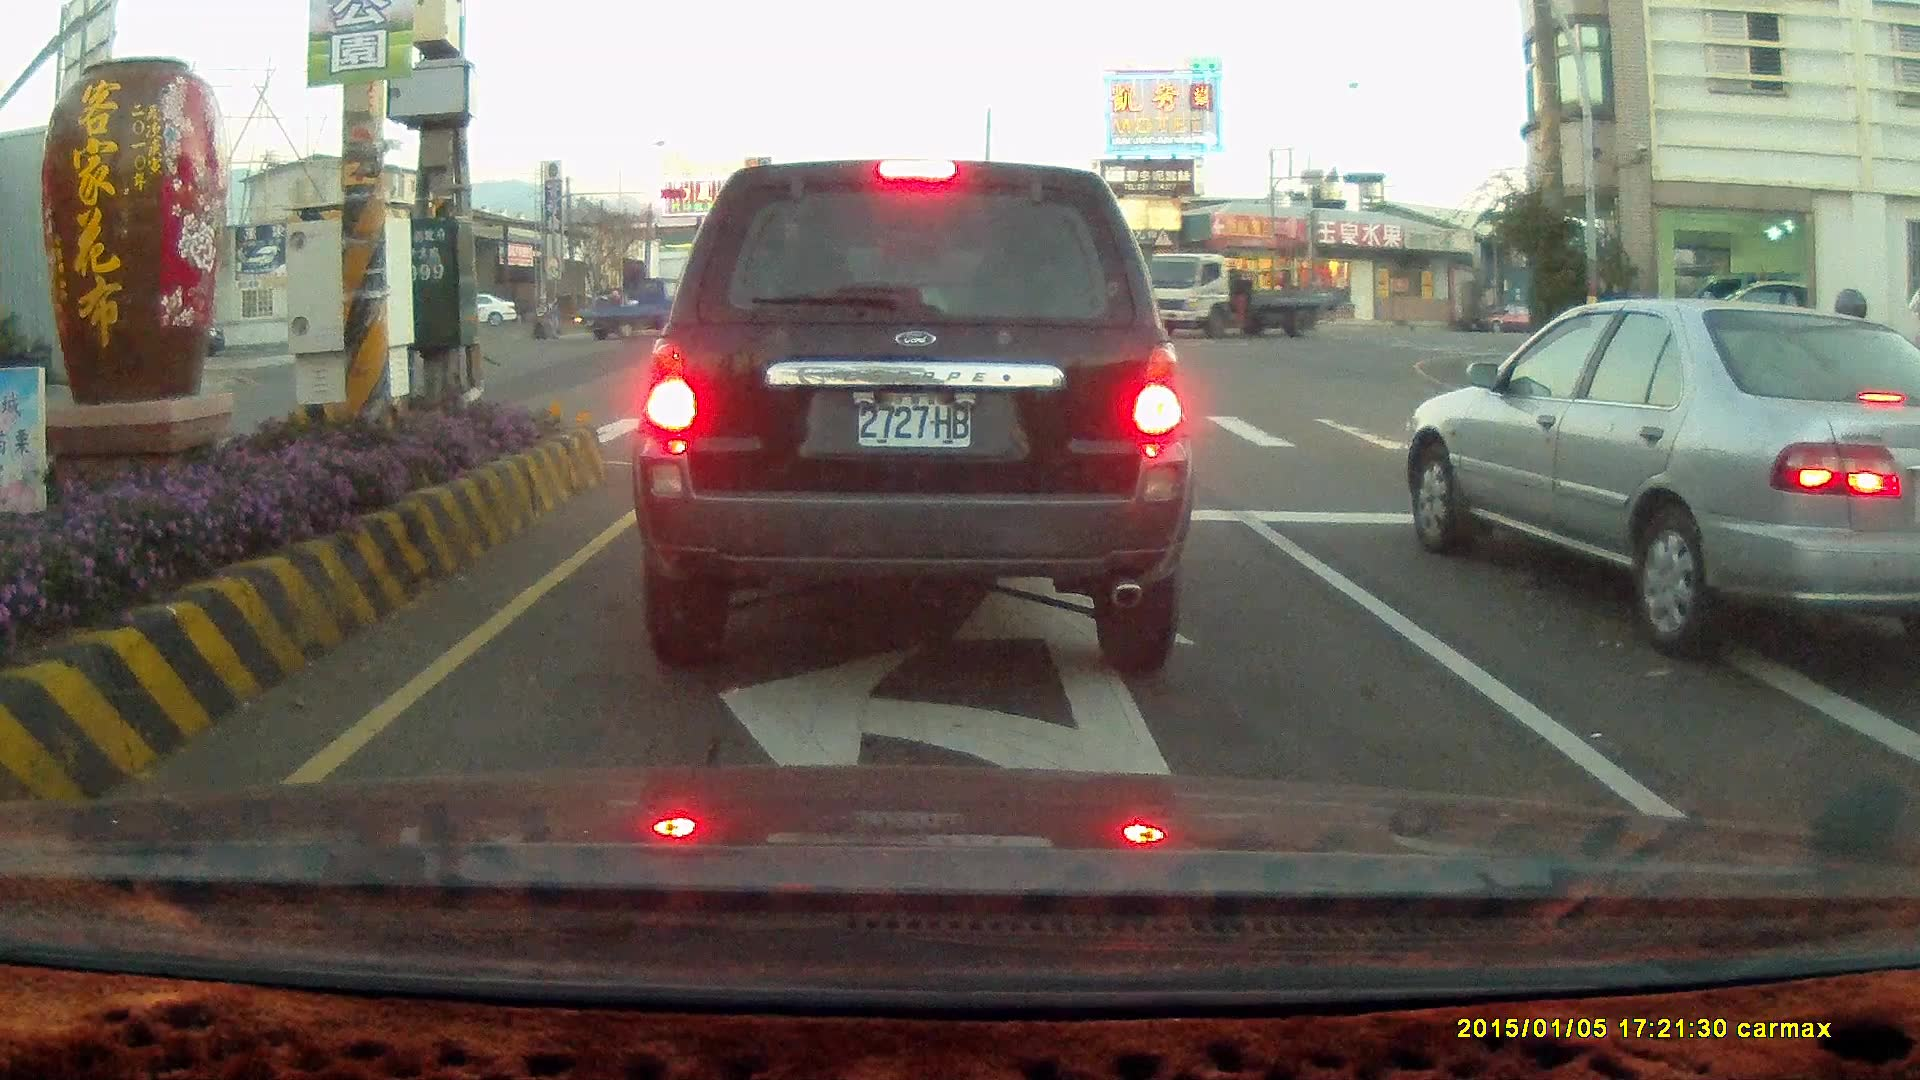rider: (528, 290, 558, 337)
vehicle: (628, 156, 1195, 676), (1389, 295, 1920, 651), (1404, 300, 1920, 650), (1136, 253, 1340, 346), (794, 254, 995, 343), (811, 278, 952, 371), (1652, 275, 1800, 363), (1896, 493, 1920, 836), (577, 274, 694, 343)
